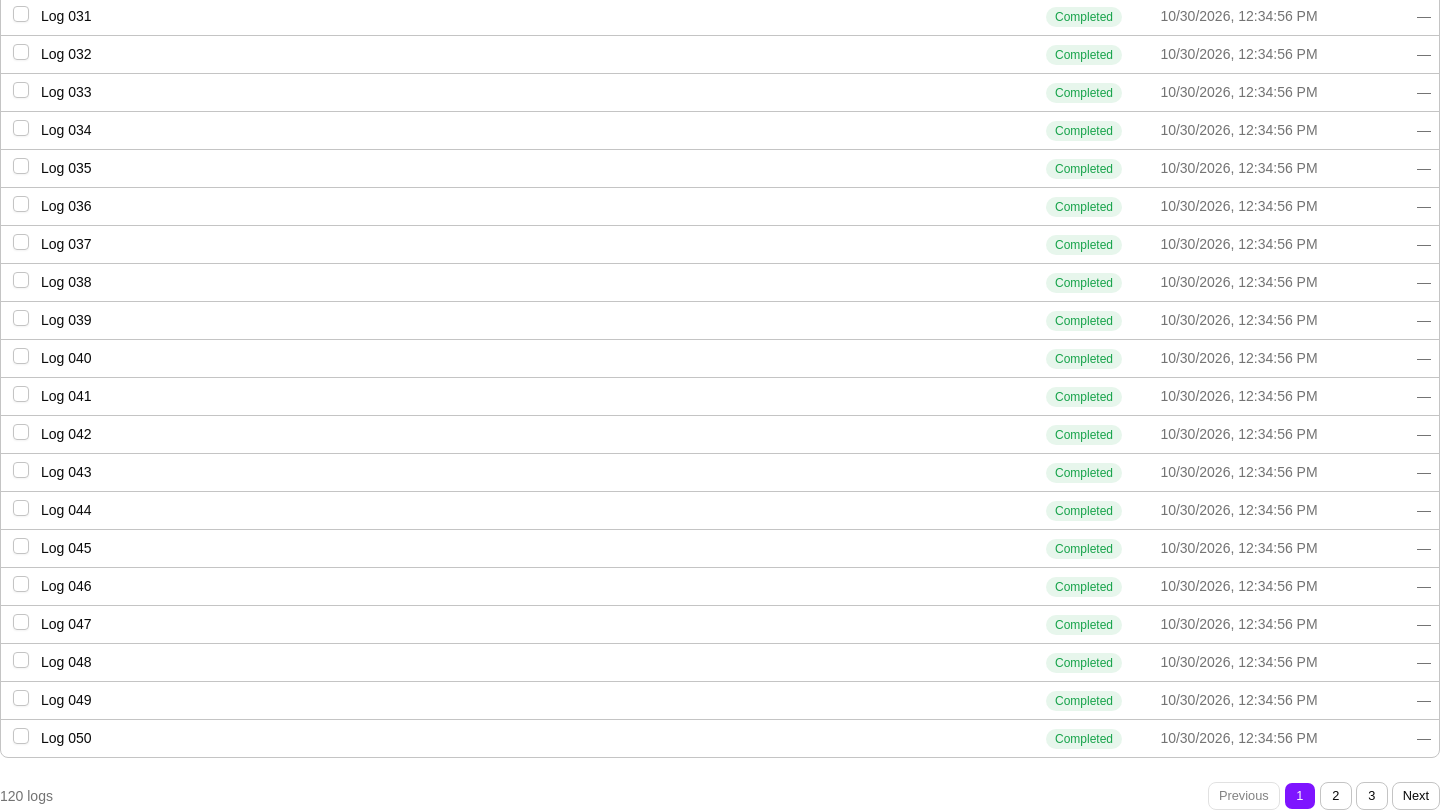
Scenario: LogsPage table › search resets to page 1 and clears the selection
This screenshot has width=1440, height=810.
(page scrolled)
Click the button "Next" at (1416, 796), box [1392,782,1439,809]
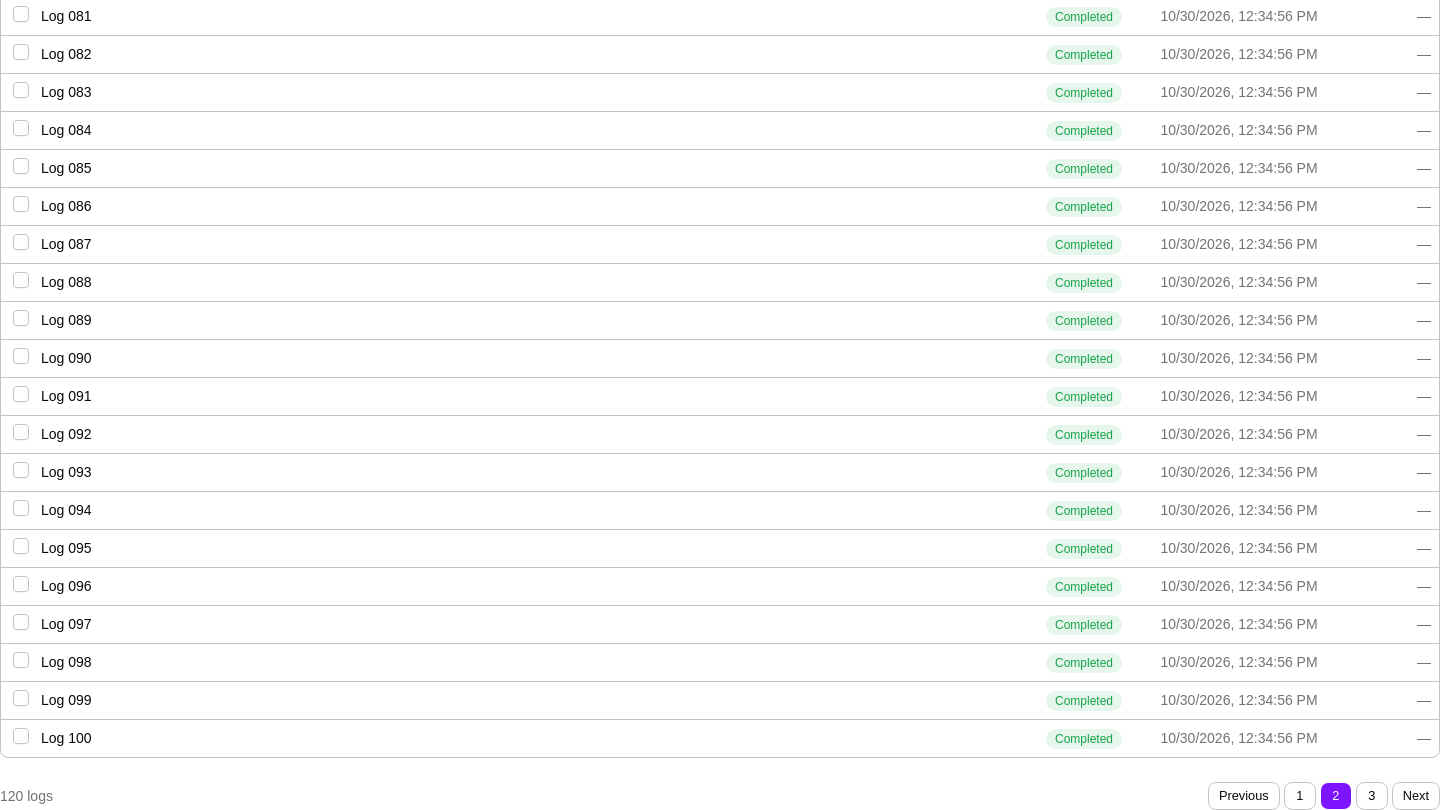
Click the button "Next" at (1416, 796), box [1392,782,1439,809]
(page scrolled)
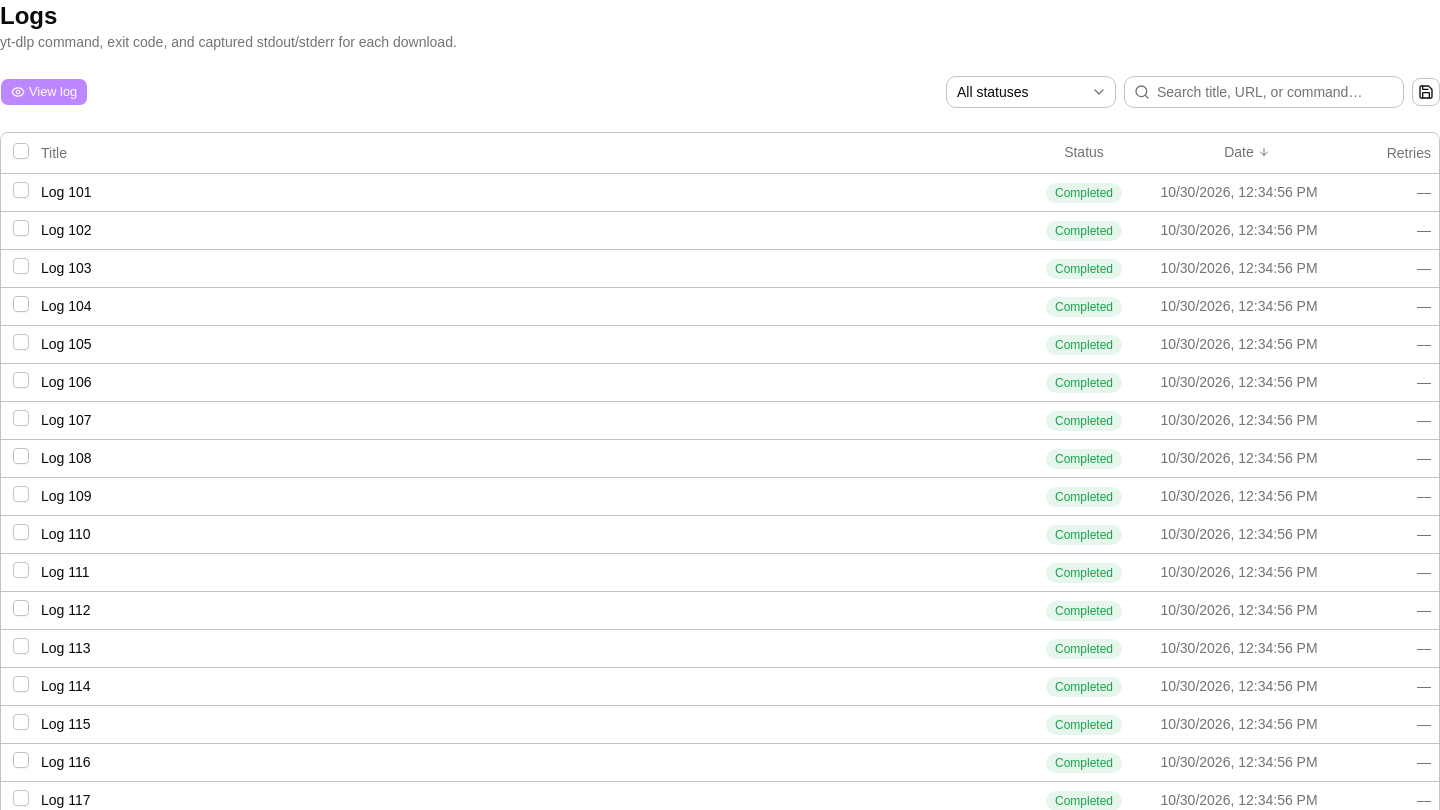
Press the mouse on the text "Log 101" at (720, 192), box [1,173,1439,211]
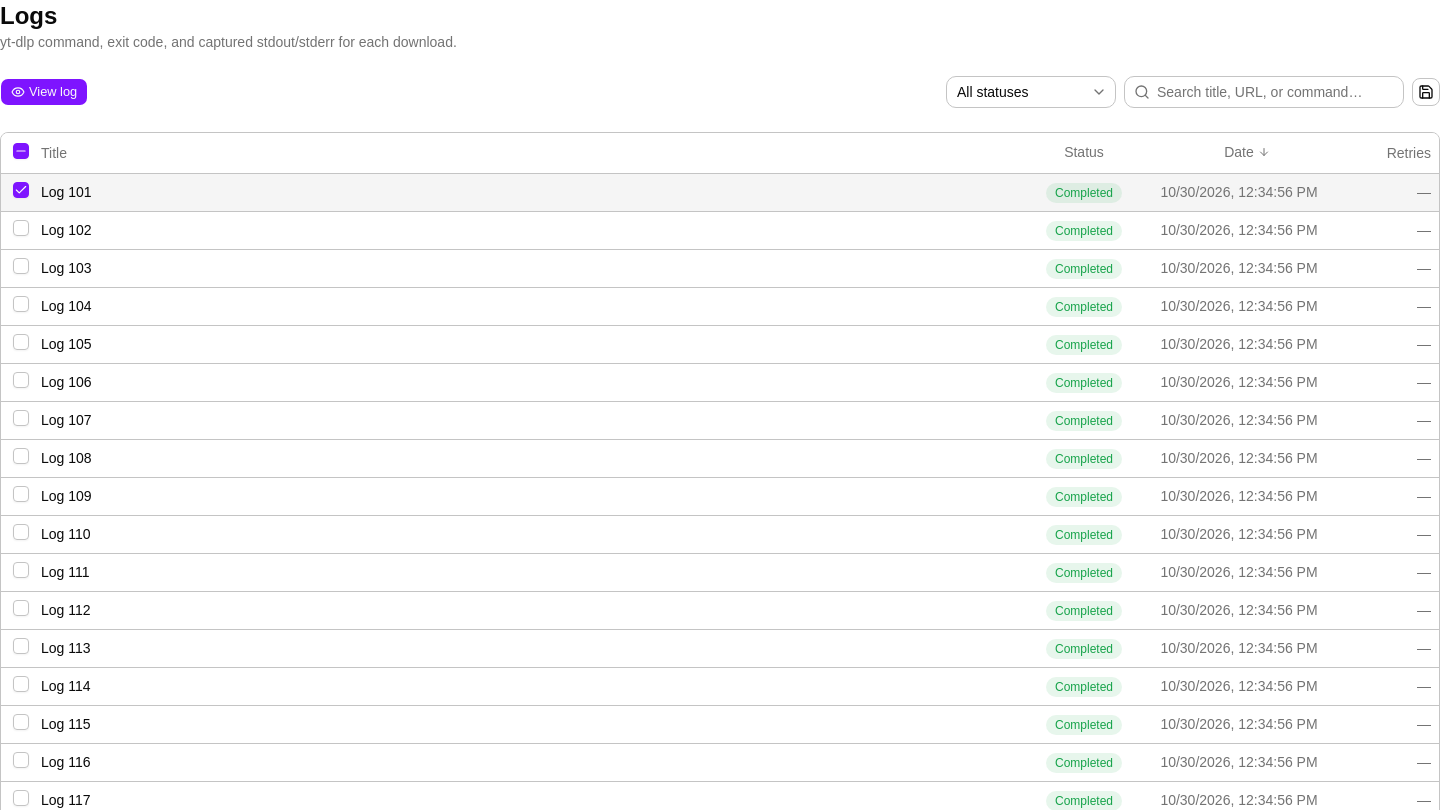
Type "log 0" into the field with placeholder "Search title, URL, or command…" at (1264, 92), box [1124,76,1404,108]
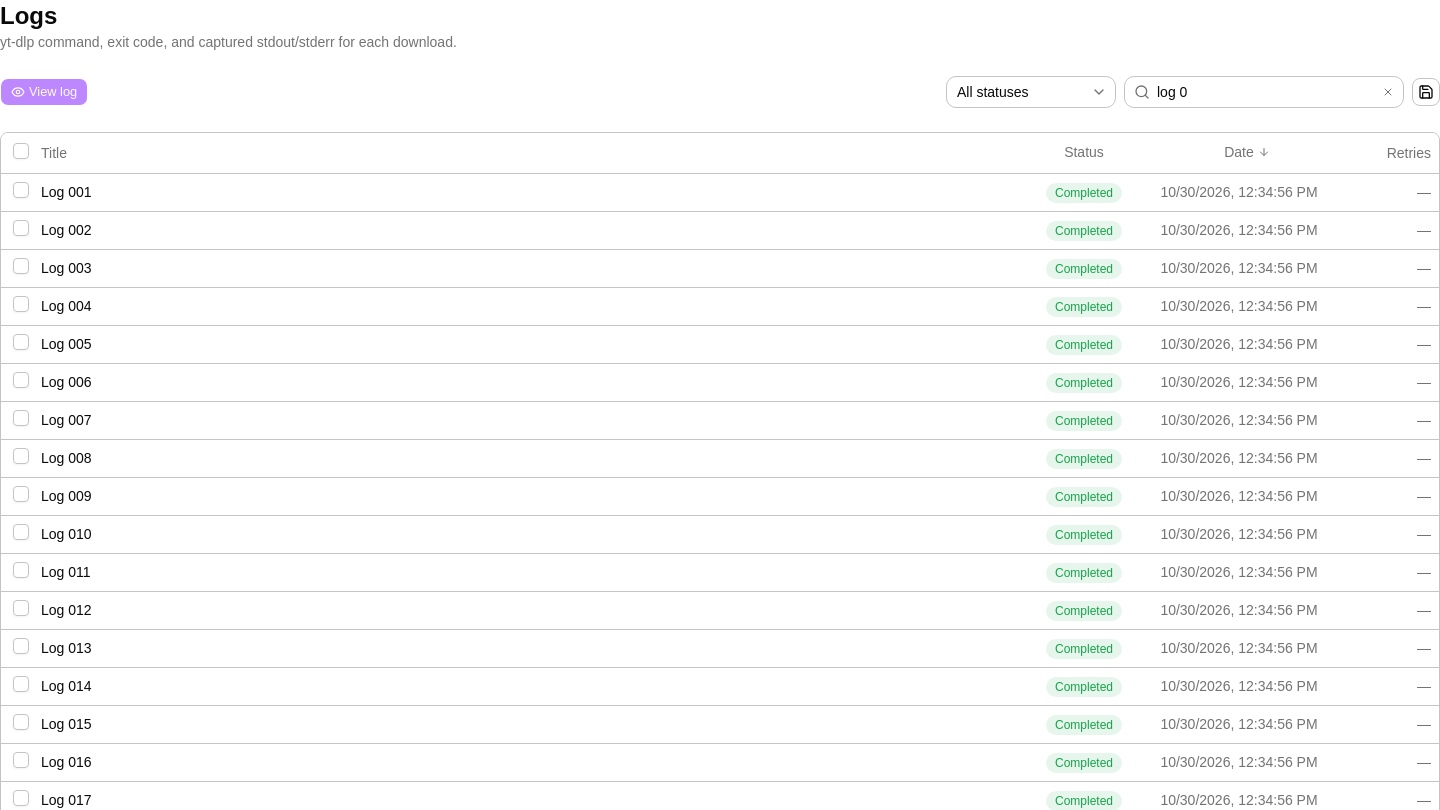
Result: the text "Log 001" is shown at [41,184,92,200]
Result: the button "View log" is disabled at [0,78,88,106]
